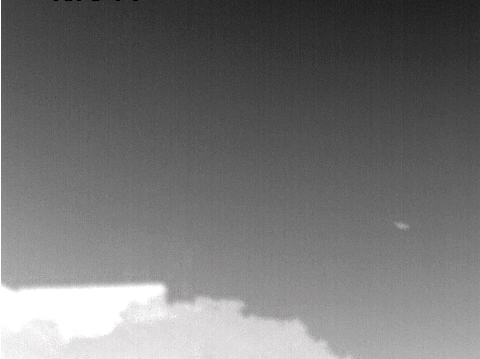dim target: (387, 211, 415, 237)
